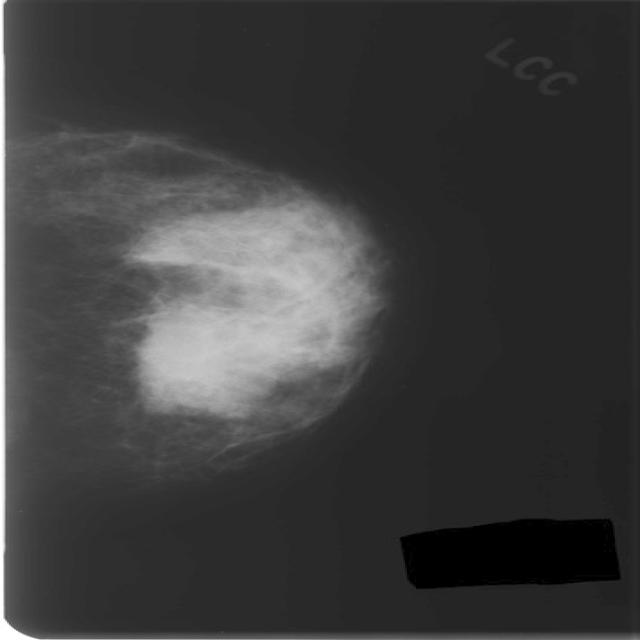tumour: (136, 302, 300, 414)
